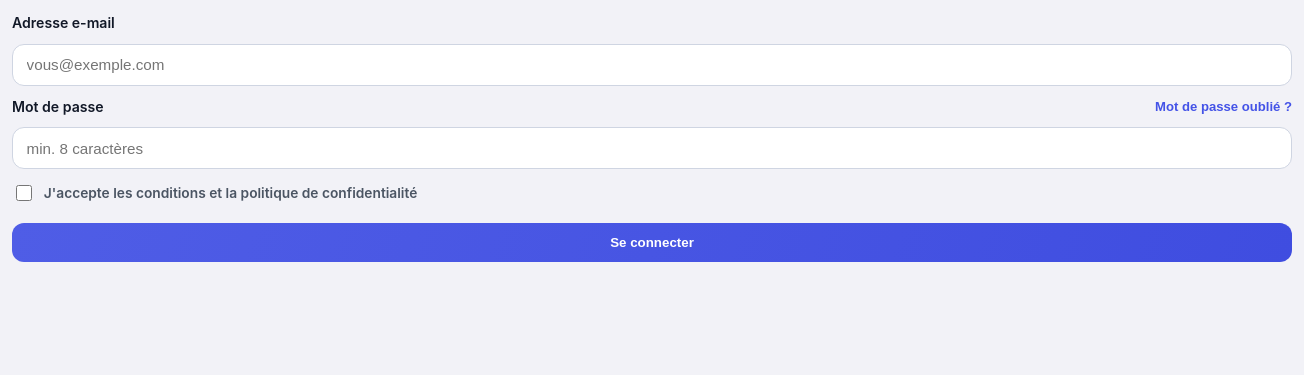
Test: SignInForm › affiche les erreurs de validation
In the field labelled "Adresse e-mail": (652, 64) x1=12 y1=44 x2=1292 y2=86, type "mauvais-email"
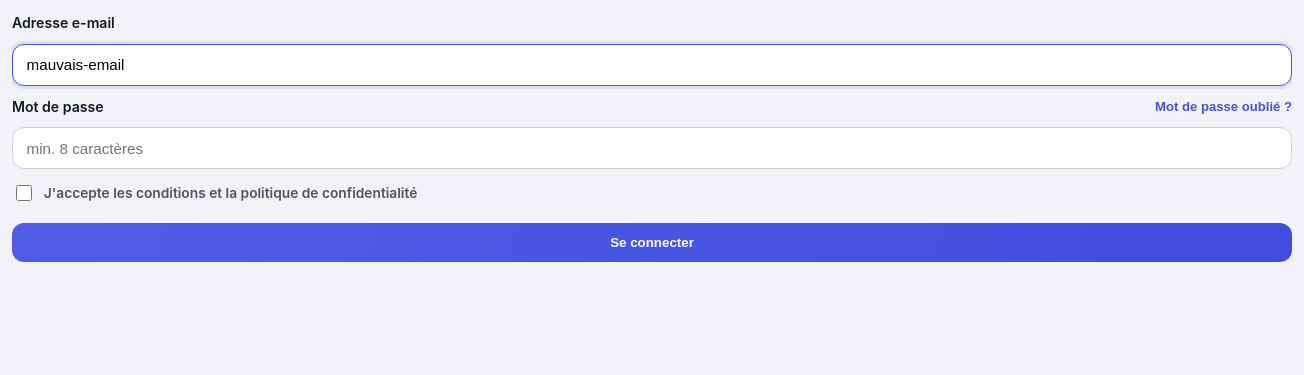
In the password field labelled "Mot de passe": (652, 148) x1=12 y1=127 x2=1292 y2=169, type "123"
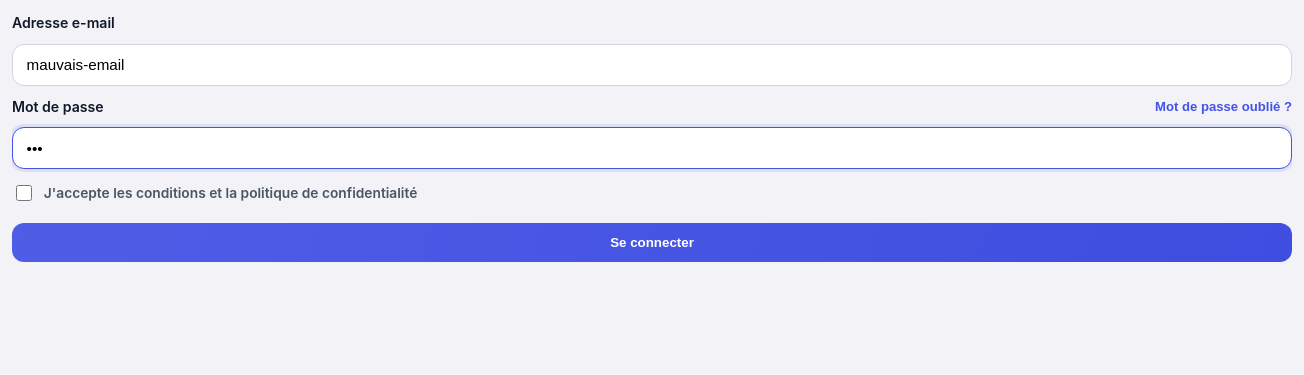
Click the button "Se connecter": (652, 242) x1=12 y1=223 x2=1292 y2=262
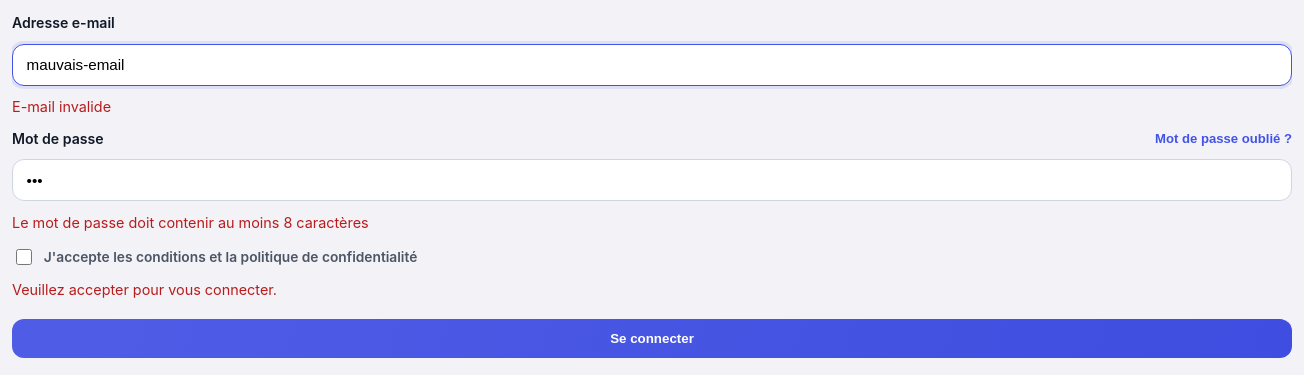
Now the text "E-mail invalide" is shown, box x1=12 y1=98 x2=111 y2=115
Now the text "Le mot de passe doit contenir au moins 8 caractères" is shown, box x1=12 y1=214 x2=369 y2=231
